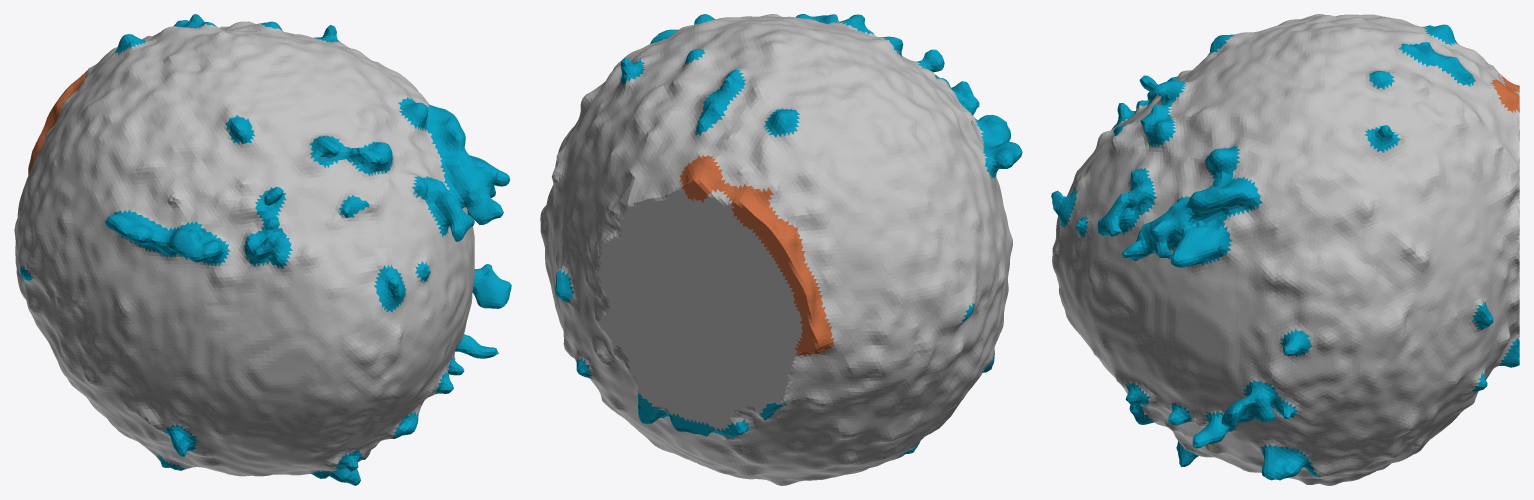
3 renders of one model, left to right at view 1: azimuth 30°, elevation 25°; view 2: azimuth 150°, elevation 25°; view 3: azimuth 270°, elevation 25°, orthographic. The views are drawn at different scales.
Size of the model in its own units: 96.42 by 90.09 by 90.11.
